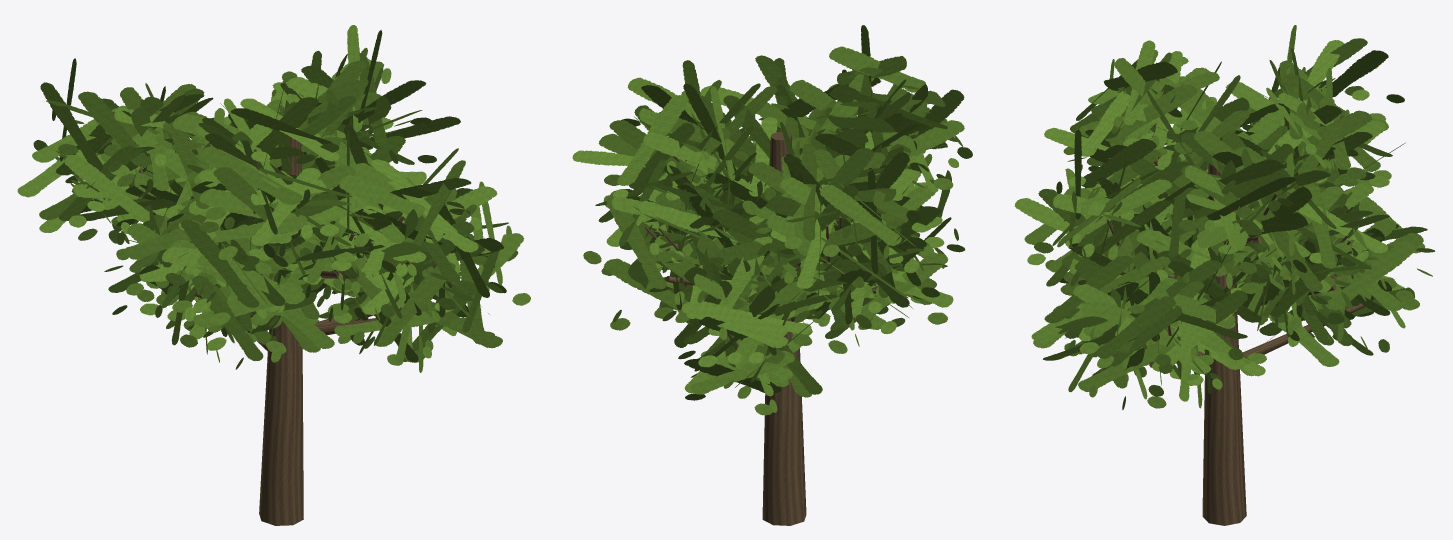
The picture shows the model from 3 angles, left to right: view 1: azimuth 30°, elevation 25°; view 2: azimuth 150°, elevation 25°; view 3: azimuth 270°, elevation 25°; orthographic projection. The views are drawn at different scales.
Visible parts, largest first — view 1: oak-leaf, oak-bark; view 2: oak-leaf, oak-bark; view 3: oak-leaf, oak-bark.
Part boxes in pixels (<box>): oak-leaf: <box>17,25,530,372</box>; oak-bark: <box>138,136,466,525</box>; oak-leaf: <box>572,25,972,415</box>; oak-bark: <box>644,100,886,525</box>; oak-leaf: <box>1014,25,1434,409</box>; oak-bark: <box>1100,115,1365,525</box>.
Size of the model in its own units: 8.67 by 9.57 by 8.19.
2 materials, 2 textured.
